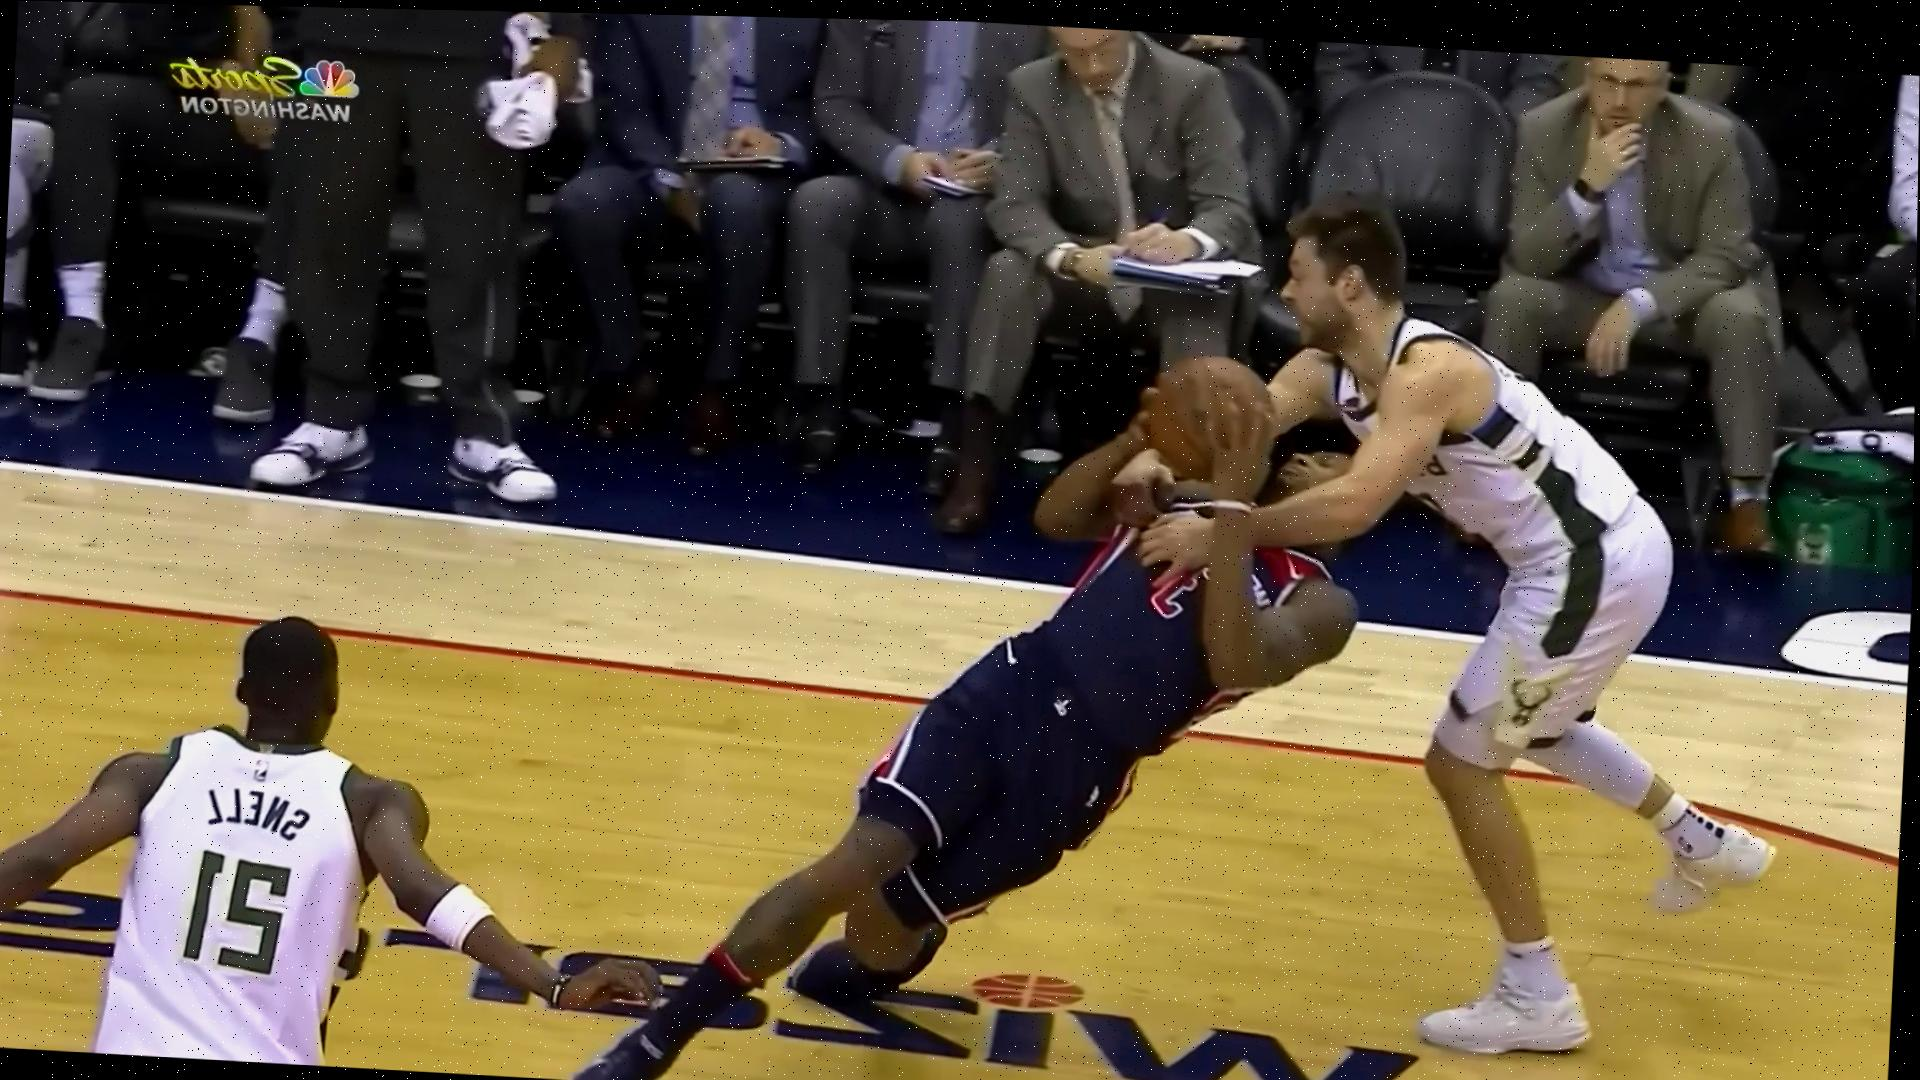foul: (649, 165, 1712, 1080)
